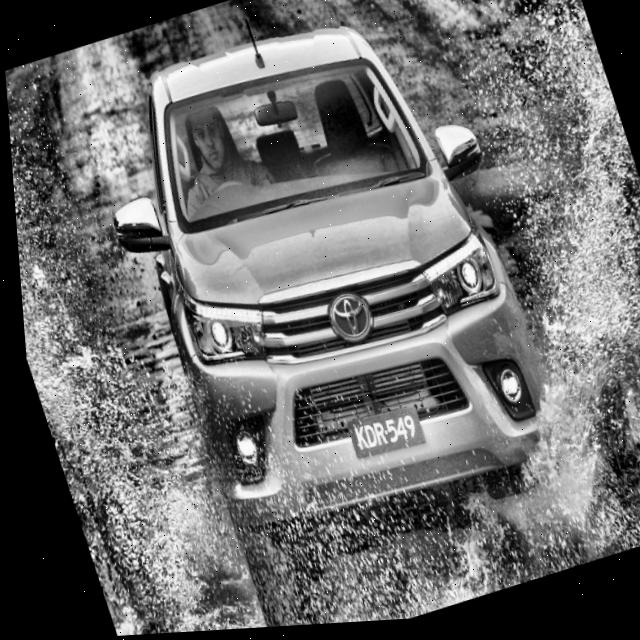light_vehicle: (21, 0, 632, 639)
